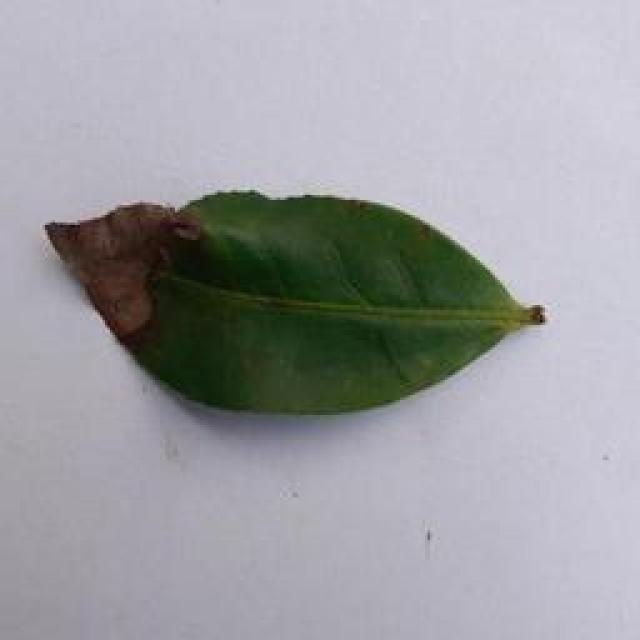Brown Blight: (34, 178, 541, 424)
